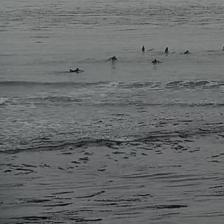surfer: (70, 68, 84, 72), (151, 59, 160, 64), (110, 56, 117, 61), (183, 50, 191, 54), (164, 47, 168, 53), (142, 46, 145, 51), (223, 44, 223, 50)
